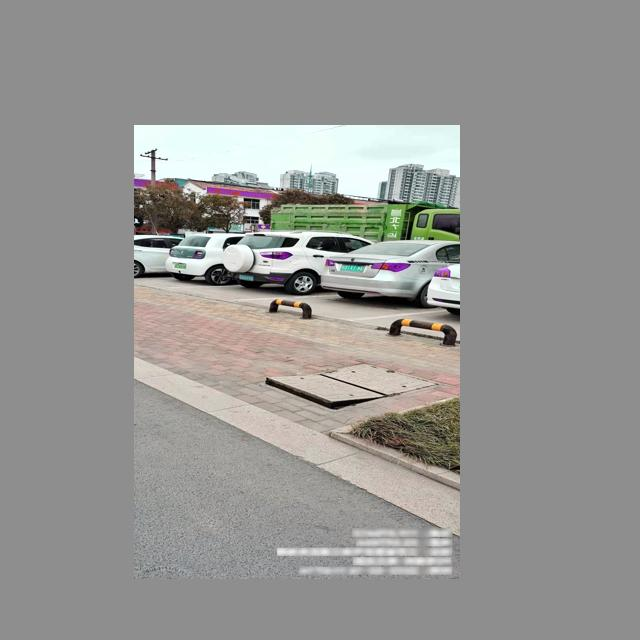uncovered: (263, 363, 441, 410)
